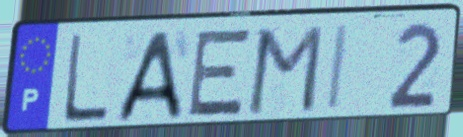2: (387, 18, 445, 113)
A: (114, 28, 186, 125)
E: (184, 26, 255, 121)
I: (324, 22, 353, 114)
L: (60, 32, 111, 127)
M: (243, 22, 326, 118)
